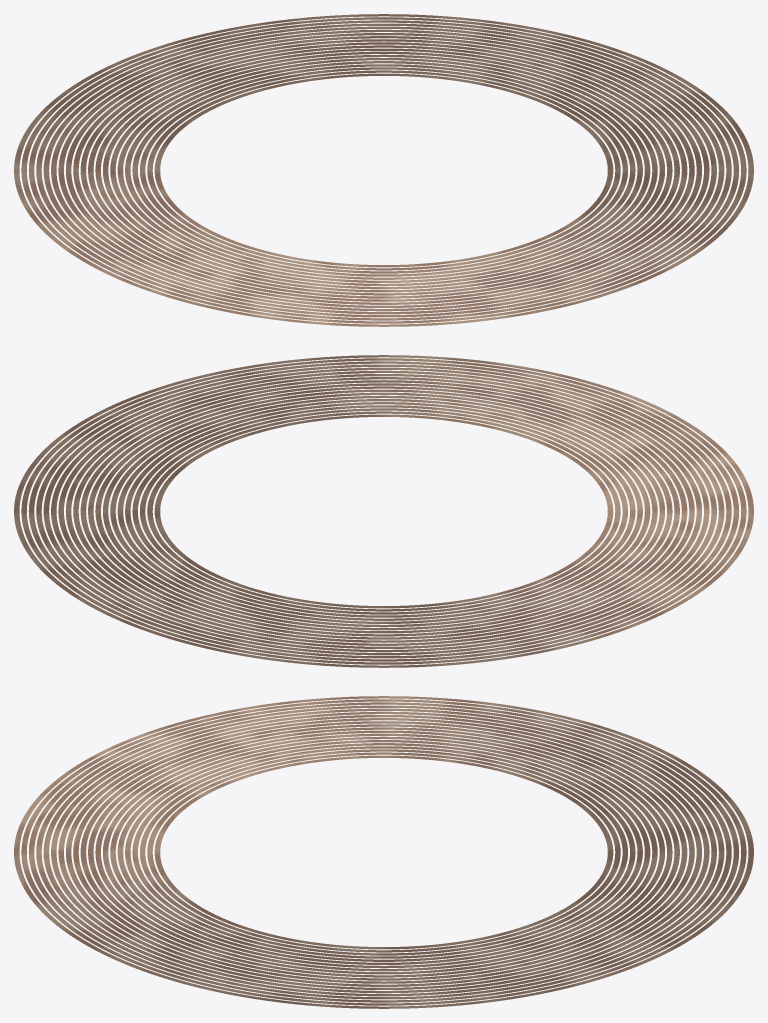
File: PlanetRings.fbx
3 renders of one model, top to bottom at view 1: azimuth 30°, elevation 25°; view 2: azimuth 150°, elevation 25°; view 3: azimuth 270°, elevation 25°, orthographic.
Visible parts, largest first — view 1: PlanetRings.001; view 2: PlanetRings.001; view 3: PlanetRings.001.
Part boxes in pixels (left/top/right/bottom): PlanetRings.001: left=14, top=14, right=753, bottom=326; PlanetRings.001: left=14, top=355, right=753, bottom=667; PlanetRings.001: left=14, top=696, right=753, bottom=1008.
Size of the model in its own units: 4.3 by 4.3 by 0.
